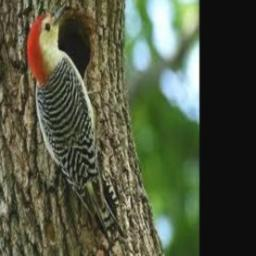Woodpecker: (27, 3, 128, 252)
